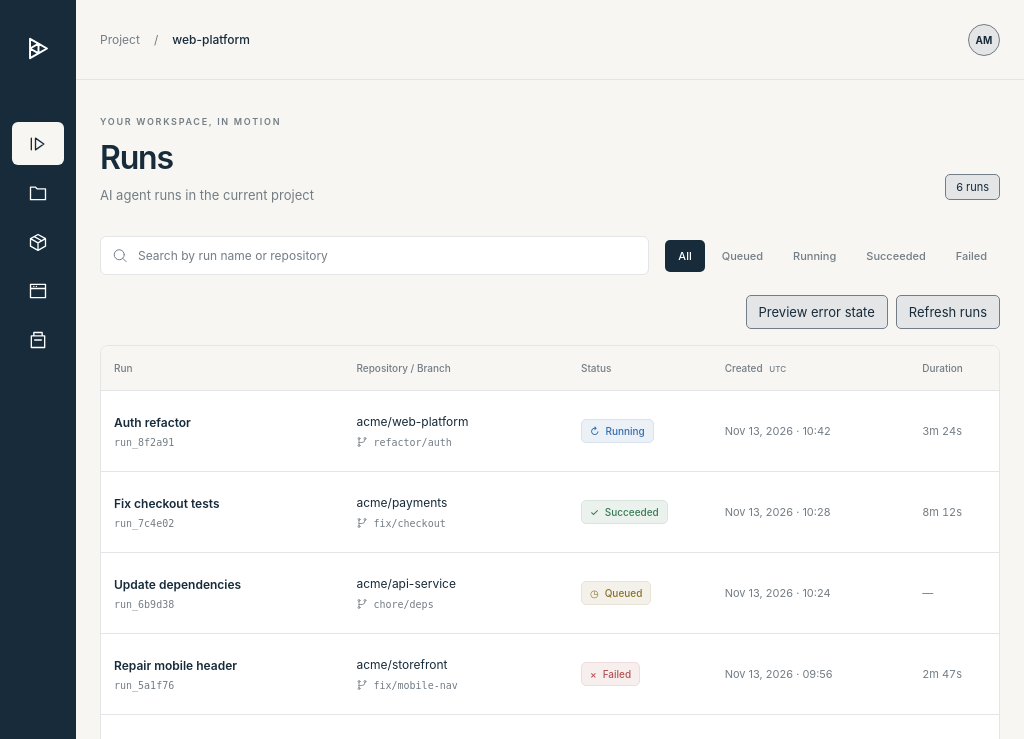
Test case: runs page › searches run names and repositories without case sensitivity
In the search field labelled "Search by run name or repository": point(375, 256) [100,236,649,275], type "PAYMENTS"
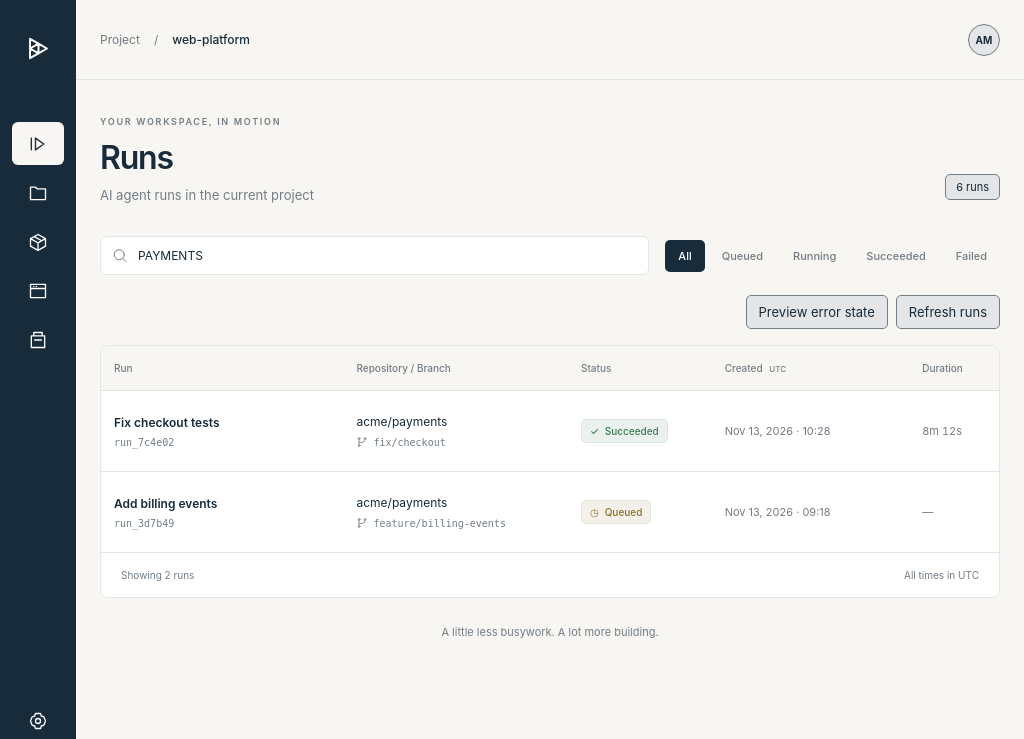
Expected: the button "Fix checkout tests" is shown, [114,415,220,430]
Now the number of rows is 3, box [101,346,999,391]; [101,391,999,472]; [101,472,999,552]
Now the button "Auth refactor" is gone
